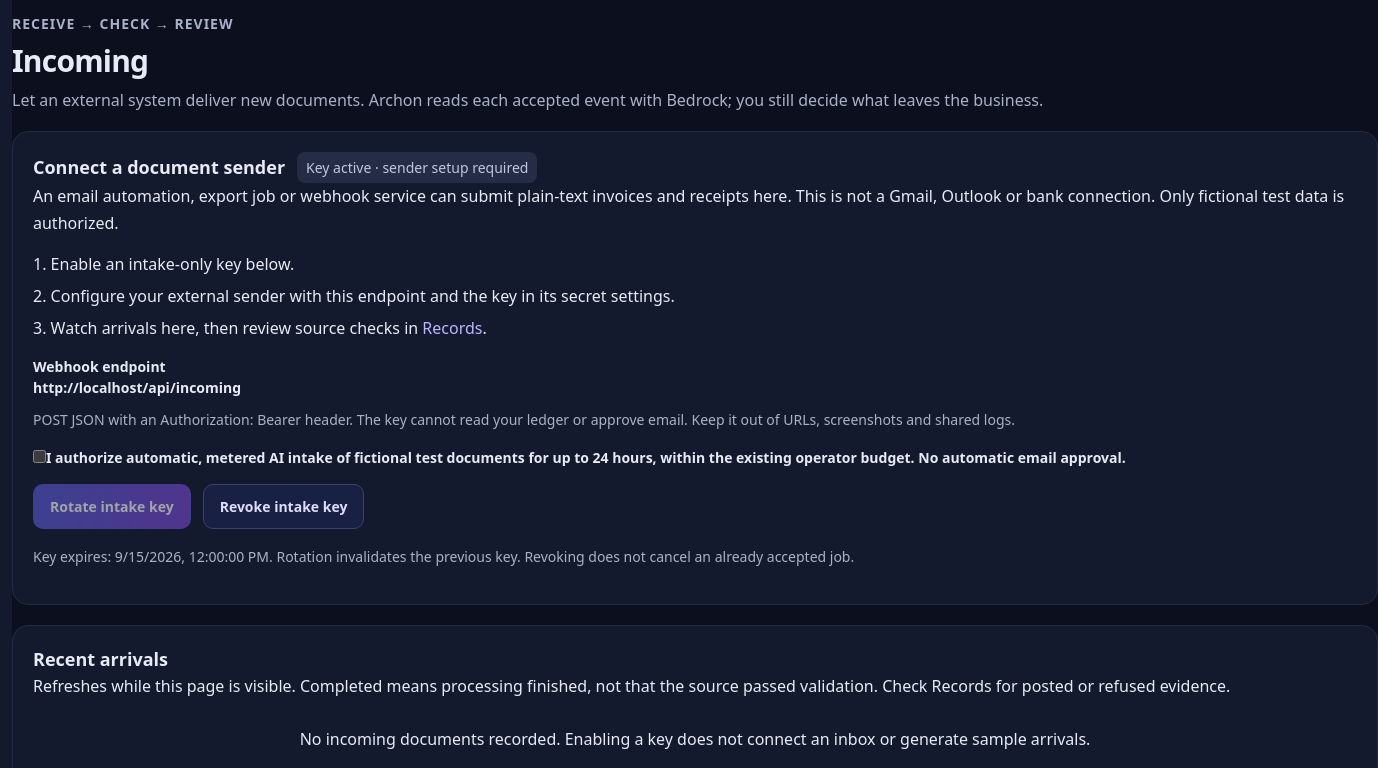
Test: rotation replaces the key and revoke clears it without cancelling accepted work
This screenshot has width=1378, height=768.
Expected: the text "Key active · sender setup required" is shown, [297, 152, 538, 184]
Click the checkbox labelled "I authorize automatic" at (40, 457), box [33, 450, 46, 463]
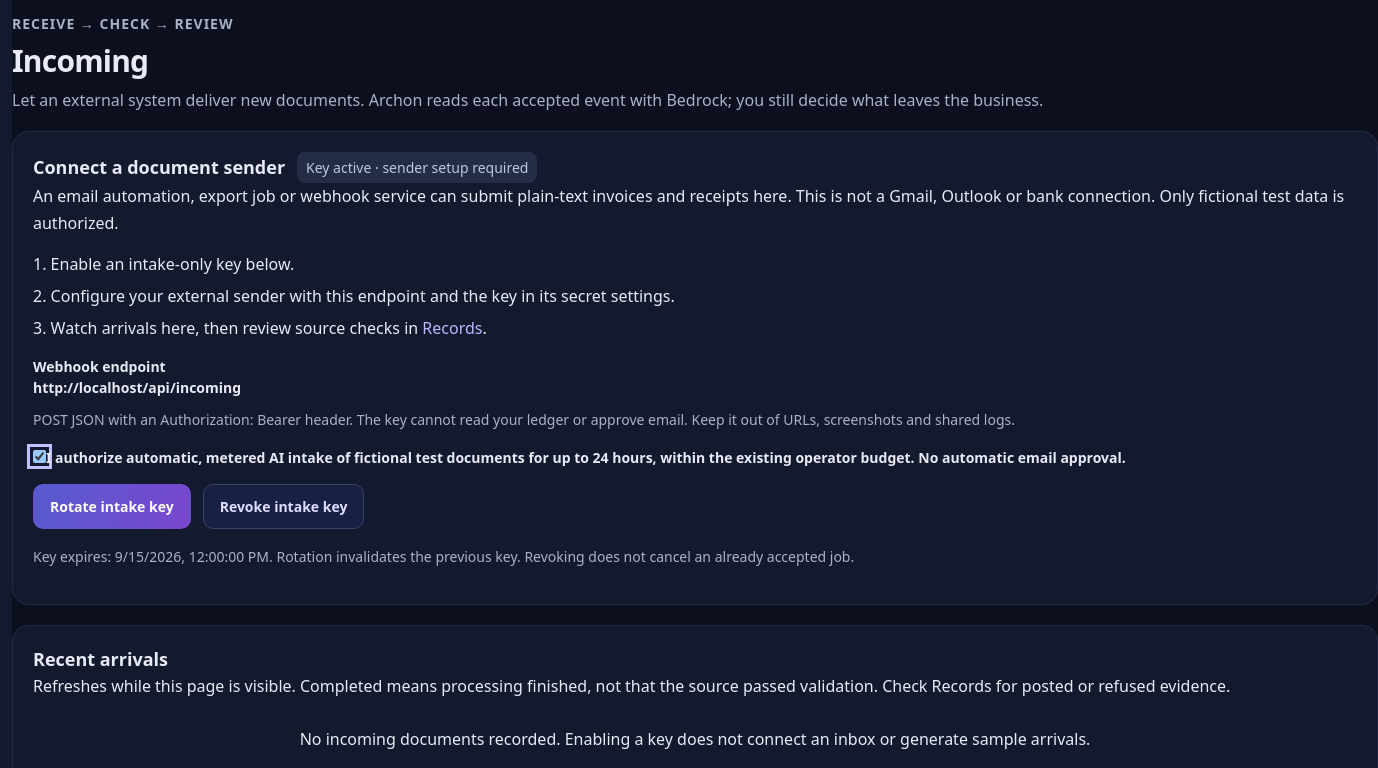
Click the button "Rotate intake key" at (112, 507), box [33, 484, 191, 529]
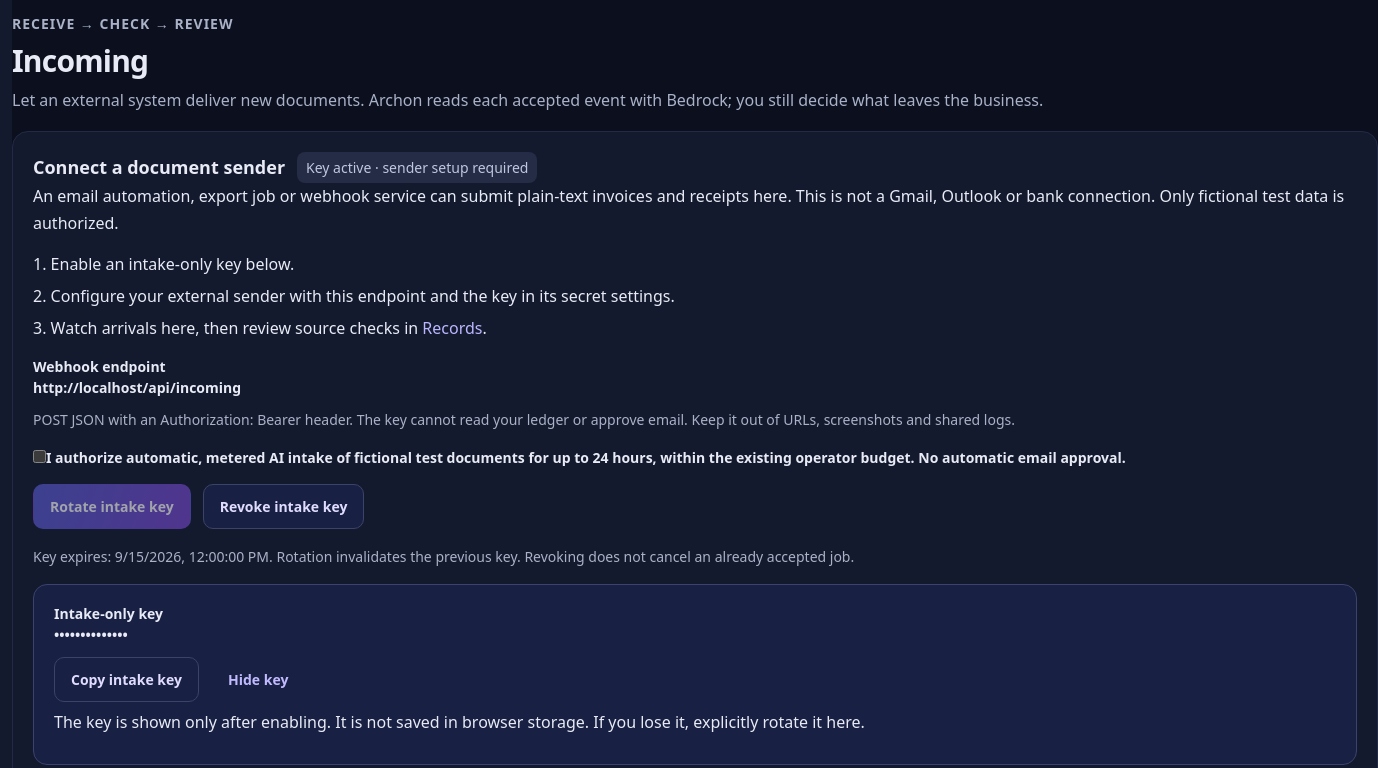
Now the password field labelled "Intake-only key" holds "rotated-ci-key", box [54, 624, 1336, 646]
Click the button "Revoke intake key" at (284, 507), box [203, 484, 364, 529]
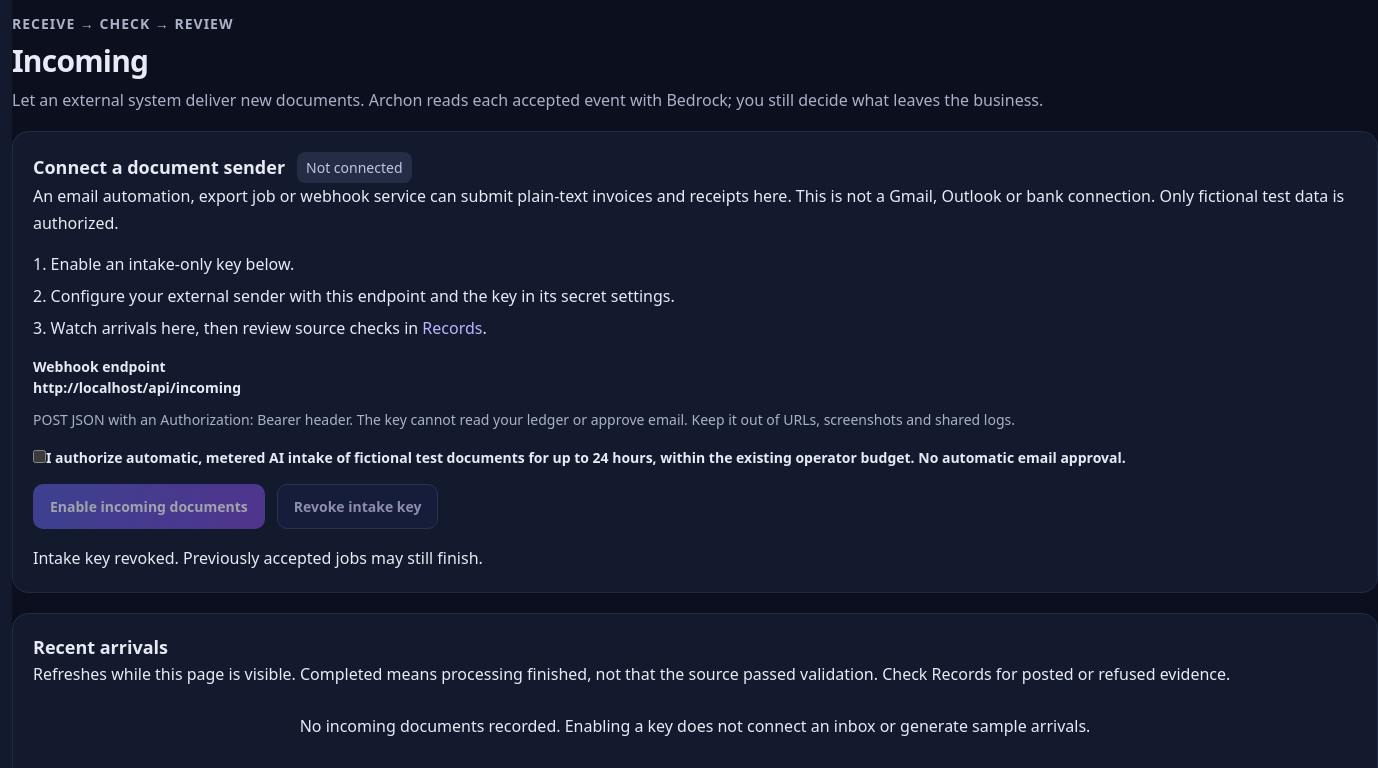
Now the message shows "Previously accepted jobs may still finish", box [33, 547, 483, 569]
